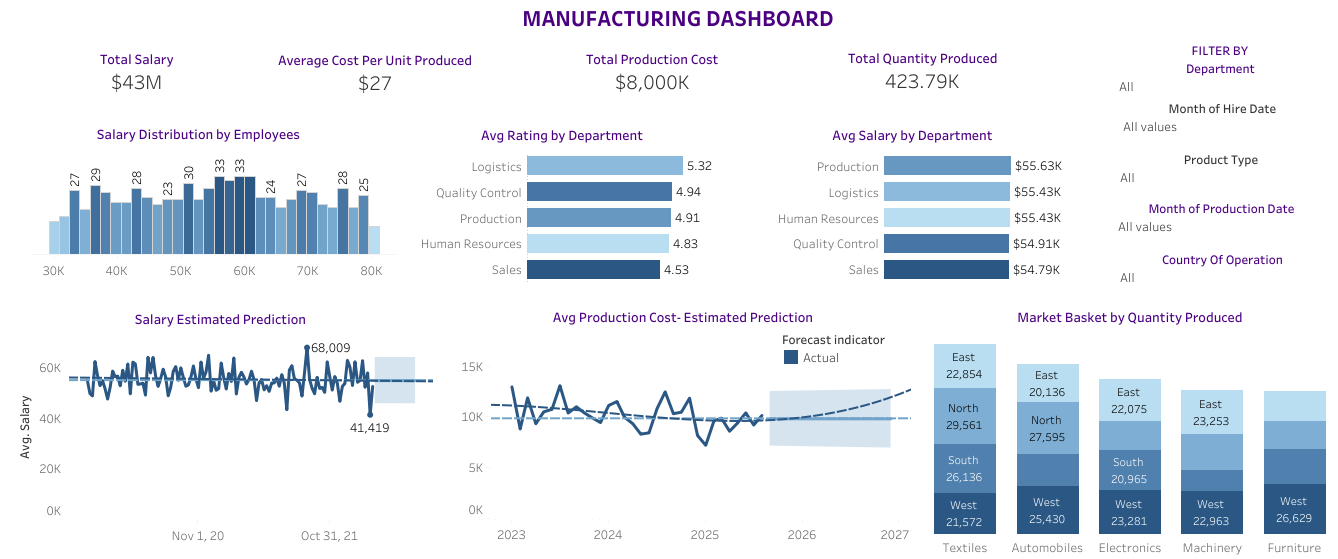

What the dashboard file says about the page in this screenshot:
{"tool":"tableau","page":{"name":"Manufacturing Dashboard","canvas":[1000,1000],"units":"permille","ordinal":0},"visuals":[{"type":"worksheet","title":"Total Quantity Produced","mark":"Automatic","box":[629.7,59.6,192,140.2]},{"type":"worksheet","title":"Salary KPI","mark":"Automatic","box":[65.2,60.4,100.8,131.7]},{"type":"worksheet","title":"Total Production Cost","mark":"Automatic","box":[427.9,60.4,162.3,149.3]},{"type":"worksheet","title":"Cost Per Unit","mark":"Automatic","box":[198.6,62.6,173.2,140.5]},{"type":"filter","title":"Avg Salary by Deparment","param":"[federated.0c11z7q1076qsk1ekkio71rvhc4t].[none:Department:nk]","box":[834,71.4,155.1,107.6]},{"type":"filter","title":"18. Market Basket Analysis","param":"[federated.0c11z7q1076qsk1ekkio71rvhc4t].[tmn:HireDate:qk]","box":[836.5,175.6,153.3,82.3]},{"type":"worksheet","title":"5. Bin Creation for Salary Analysis","mark":"Automatic","rows":["EmployeeID"],"cols":["Salary I (bin)"],"box":[1.8,210.8,292.9,296.4]},{"type":"worksheet","title":"9.Performance Rating Analysis","mark":"Automatic","rows":["Department"],"cols":["PerformanceRating_I"],"box":[298.2,211.9,243.1,292]},{"type":"worksheet","title":"Avg Salary by Deparment","mark":"Automatic","rows":["Department"],"cols":["Salary_I"],"box":[561.8,213,239.6,290.9]},{"type":"filter","title":"18. Market Basket Analysis","param":"[federated.0c11z7q1076qsk1ekkio71rvhc4t].[none:ProductType:nk]","box":[835.2,266.7,153.9,80.1]},{"type":"filter","title":"7.Trend Analysis of Production Cost","param":"[federated.0c11z7q1076qsk1ekkio71rvhc4t].[tmn:ProductionDate:qk]","box":[832.8,353.5,158.7,85.6]},{"type":"filter","title":"Avg Salary by Deparment","param":"[federated.0c11z7q1076qsk1ekkio71rvhc4t].[none:CountryOfOperation:nk]","box":[834.6,444.6,156.3,80.1]},{"type":"worksheet","title":"7.Trend Analysis of Production Cost","mark":"Automatic","rows":["ProductionCost_I"],"cols":["ProductionDate"],"box":[339.8,537.9,340.4,440.2]},{"type":"worksheet","title":"18. Market Basket Analysis","mark":"Automatic","rows":["QuantityProduced_I"],"cols":["ProductType"],"box":[690.1,538.2,307.5,454.8]},{"type":"worksheet","title":"16.Future Salary Trend","mark":"Automatic","rows":["Salary_I"],"cols":["HireDate"],"box":[6,541.7,317.6,438.3]},{"type":"legend","title":"7.Trend Analysis of Production Cost","param":"[federated.0c11z7q1076qsk1ekkio71rvhc4t].[none:Forecast Indicator:nk]","box":[583.4,586.4,84.6,75.2]}]}

Visuals, with their boxes on the dashboard's canvas, which has no fixed pixel size, in thousandths of its width and height (x1, y1, x2, y2). These are canvas units, not pixel positions in the 1338x559 screenshot, which may show the page scaled, cropped or inside an application window:
"Total Quantity Produced" worksheet: <bbox>630, 60, 822, 200</bbox>
"Salary KPI" worksheet: <bbox>65, 60, 166, 192</bbox>
"Total Production Cost" worksheet: <bbox>428, 60, 590, 210</bbox>
"Cost Per Unit" worksheet: <bbox>199, 63, 372, 203</bbox>
"Avg Salary by Deparment" filter: <bbox>834, 71, 989, 179</bbox>
"18. Market Basket Analysis" filter: <bbox>836, 176, 990, 258</bbox>
"5. Bin Creation for Salary Analysis" worksheet: <bbox>2, 211, 295, 507</bbox>
"9.Performance Rating Analysis" worksheet: <bbox>298, 212, 541, 504</bbox>
"Avg Salary by Deparment" worksheet: <bbox>562, 213, 801, 504</bbox>
"18. Market Basket Analysis" filter: <bbox>835, 267, 989, 347</bbox>
"7.Trend Analysis of Production Cost" filter: <bbox>833, 354, 992, 439</bbox>
"Avg Salary by Deparment" filter: <bbox>835, 445, 991, 525</bbox>
"7.Trend Analysis of Production Cost" worksheet: <bbox>340, 538, 680, 978</bbox>
"18. Market Basket Analysis" worksheet: <bbox>690, 538, 998, 993</bbox>
"16.Future Salary Trend" worksheet: <bbox>6, 542, 324, 980</bbox>
"7.Trend Analysis of Production Cost" legend: <bbox>583, 586, 668, 662</bbox>
